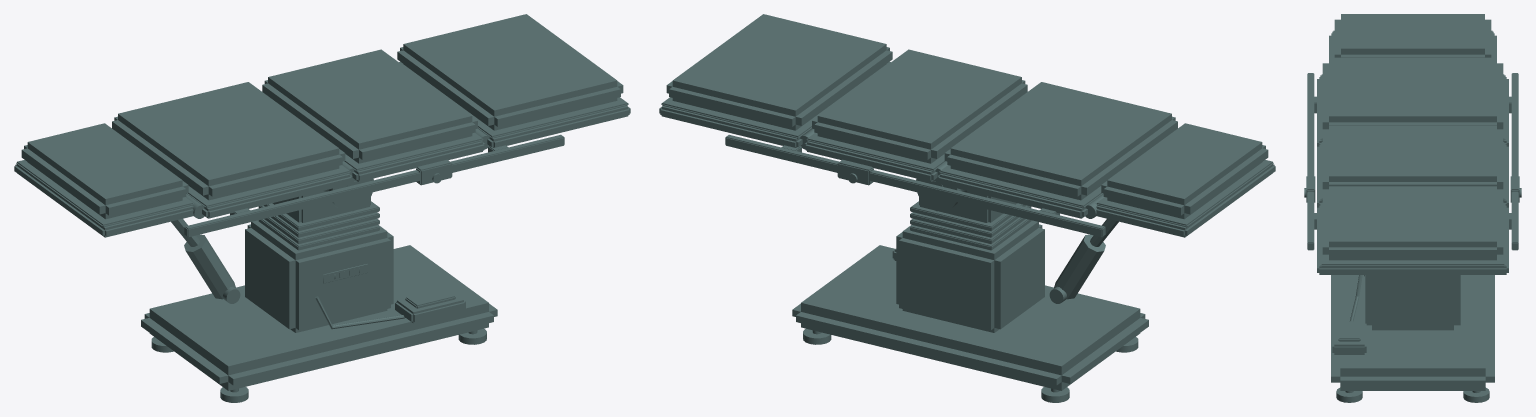
Rendered from OBJ-044_MesaProcedimientos.fbx.
3 renders of one model, left to right at view 1: azimuth 30°, elevation 25°; view 2: azimuth 150°, elevation 25°; view 3: azimuth 270°, elevation 25°, orthographic. The views are drawn at different scales.
Parts seen in each view (by area): view 1: GEO-OBJ-044_MesaProcedimientos.001; view 2: GEO-OBJ-044_MesaProcedimientos.001; view 3: GEO-OBJ-044_MesaProcedimientos.001.
Part boxes in pixels (left/top/right/bottom): GEO-OBJ-044_MesaProcedimientos.001: left=14, top=14, right=630, bottom=402; GEO-OBJ-044_MesaProcedimientos.001: left=659, top=14, right=1275, bottom=402; GEO-OBJ-044_MesaProcedimientos.001: left=1304, top=14, right=1521, bottom=402.
Bounding box in the file's own units: 2.1 × 0.9 × 0.8217.
